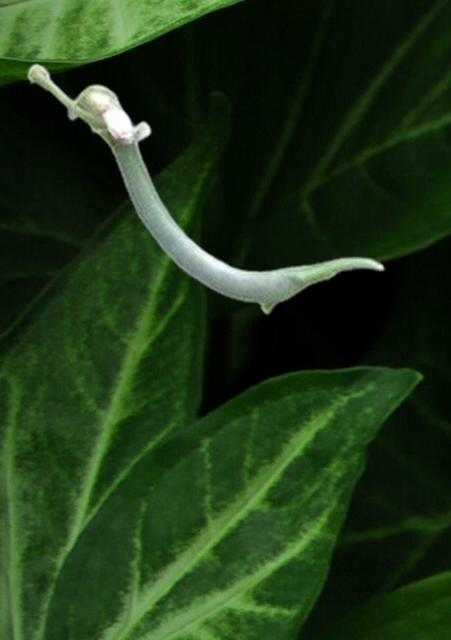french_bean: (26, 62, 384, 314)
